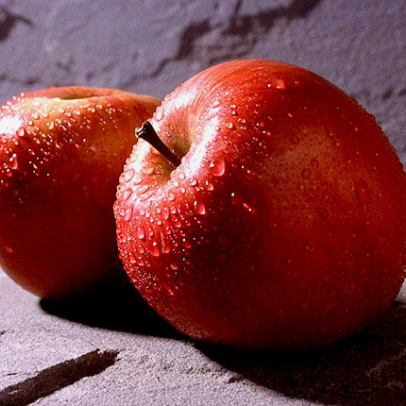apple: (112, 55, 404, 349), (1, 86, 171, 300)
